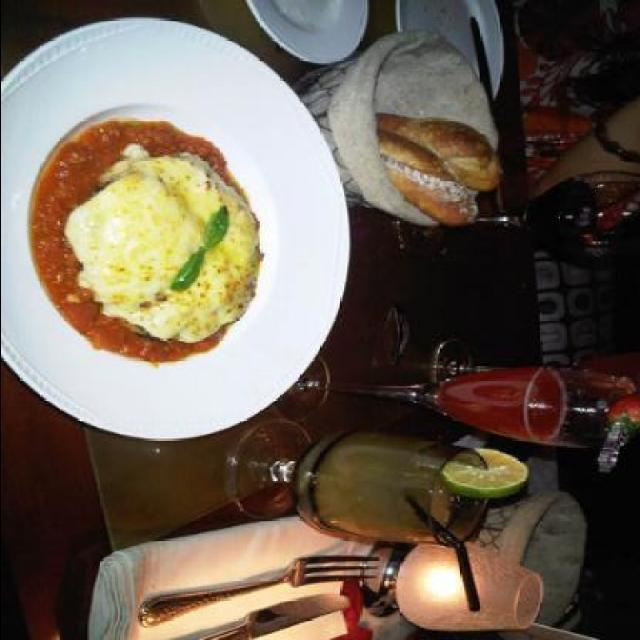Lasagna: (37, 136, 275, 376)
